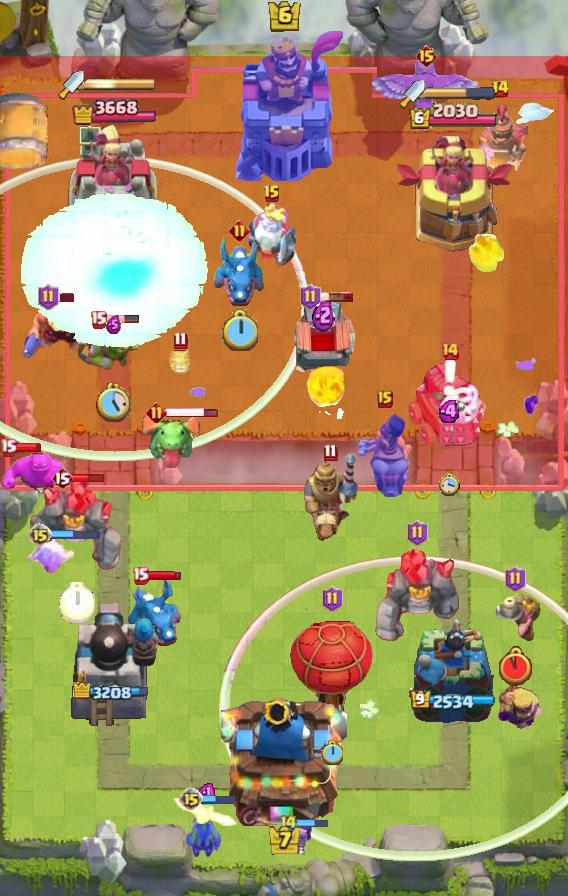arrows: (497, 682, 545, 729)
bandit: (488, 592, 542, 646)
bar: (391, 132, 515, 256), (67, 122, 161, 256)
barbarian: (173, 796, 239, 828)
cannon-cart: (289, 608, 375, 726)
cannoneer-tower: (28, 474, 126, 576), (374, 548, 460, 644)
dirt: (0, 92, 50, 172)
earthquake: (473, 103, 528, 177)
electro-spirit: (313, 296, 336, 331), (438, 400, 462, 423), (197, 782, 215, 802), (106, 315, 121, 333)
electro-wizard: (140, 409, 204, 469)
elite-barbarian: (354, 413, 416, 507)
elixir: (221, 309, 258, 351), (59, 582, 95, 624), (96, 383, 131, 422), (500, 646, 533, 686), (439, 472, 461, 497), (321, 740, 343, 765)
elixir-golem-mid: (288, 295, 358, 381)
emote: (164, 405, 219, 418), (49, 527, 101, 540), (318, 291, 354, 303), (146, 570, 182, 582), (71, 472, 106, 484), (201, 793, 236, 805), (8, 442, 42, 454), (104, 314, 140, 324), (297, 819, 329, 830), (56, 292, 76, 303)
fireball: (19, 299, 109, 367)
flying-machine: (83, 318, 143, 374)
goblin: (287, 819, 317, 855)
golden-knight: (370, 57, 482, 135)
golem: (405, 357, 495, 449)
graveyard: (126, 574, 182, 650), (211, 236, 267, 310)
ice-spirit-evolution: (169, 345, 191, 375)
king-tower: (223, 31, 345, 181), (221, 690, 347, 826)
king-tower-bar: (84, 77, 156, 91), (425, 87, 495, 101)
mega-knight: (17, 189, 214, 350)
mirror: (28, 537, 78, 575)
mortar-evolution: (246, 202, 298, 270)
queen-tower: (409, 616, 497, 731)
ram-rider: (300, 451, 360, 547)
selected: (72, 96, 156, 128), (409, 101, 500, 130), (410, 690, 496, 712), (73, 682, 155, 704)
text: (414, 44, 438, 68), (28, 523, 52, 547), (179, 787, 203, 811), (37, 284, 59, 310), (321, 586, 343, 612), (300, 284, 321, 310), (407, 520, 428, 546), (506, 566, 527, 592), (51, 466, 73, 490), (229, 219, 250, 240), (146, 401, 167, 422), (279, 813, 299, 835), (440, 341, 460, 361), (491, 79, 510, 99), (263, 184, 281, 204), (131, 567, 149, 585), (89, 311, 106, 329), (377, 390, 393, 408), (0, 439, 16, 457), (172, 330, 187, 349), (323, 442, 337, 461)
tornado: (0, 445, 70, 503)
tower-bar: (69, 599, 159, 731)
valkyrie: (302, 359, 350, 419), (463, 234, 509, 276)
zap: (185, 801, 223, 859)
